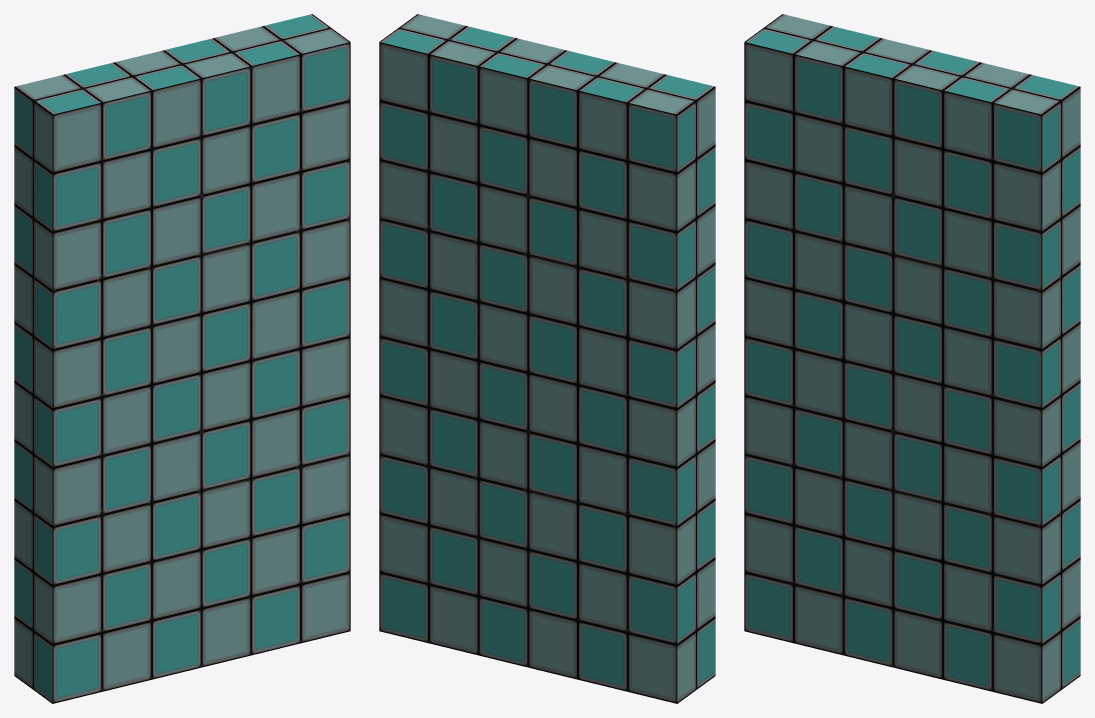
The model's file is doorLR.fbx.
The picture shows the model from 3 angles, left to right: view 1: azimuth 30°, elevation 25°; view 2: azimuth 150°, elevation 25°; view 3: azimuth 330°, elevation 25°; orthographic projection.
Parts seen in each view (by area): view 1: Door R; view 2: Door R; view 3: Door R.
Part boxes in pixels (<box>): Door R: <box>14,14,350,703</box>; Door R: <box>379,14,715,703</box>; Door R: <box>744,14,1080,703</box>.
Size of the model in its own units: 59.85 by 113 by 13.3.
